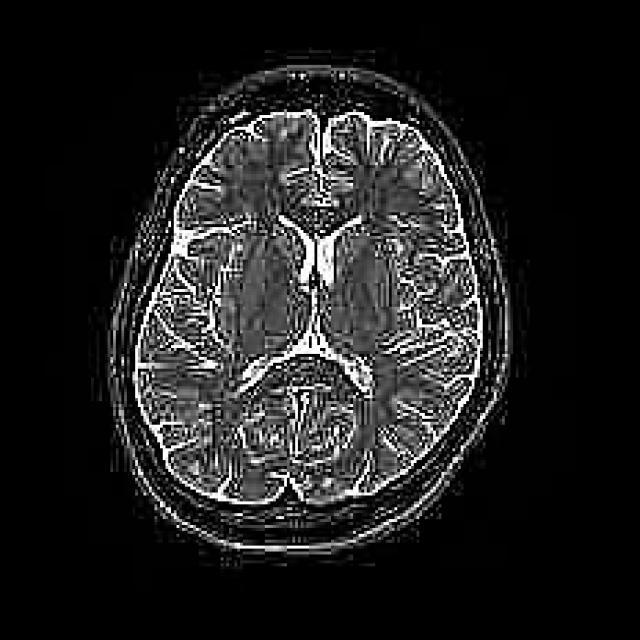notumor: (110, 62, 519, 563)
